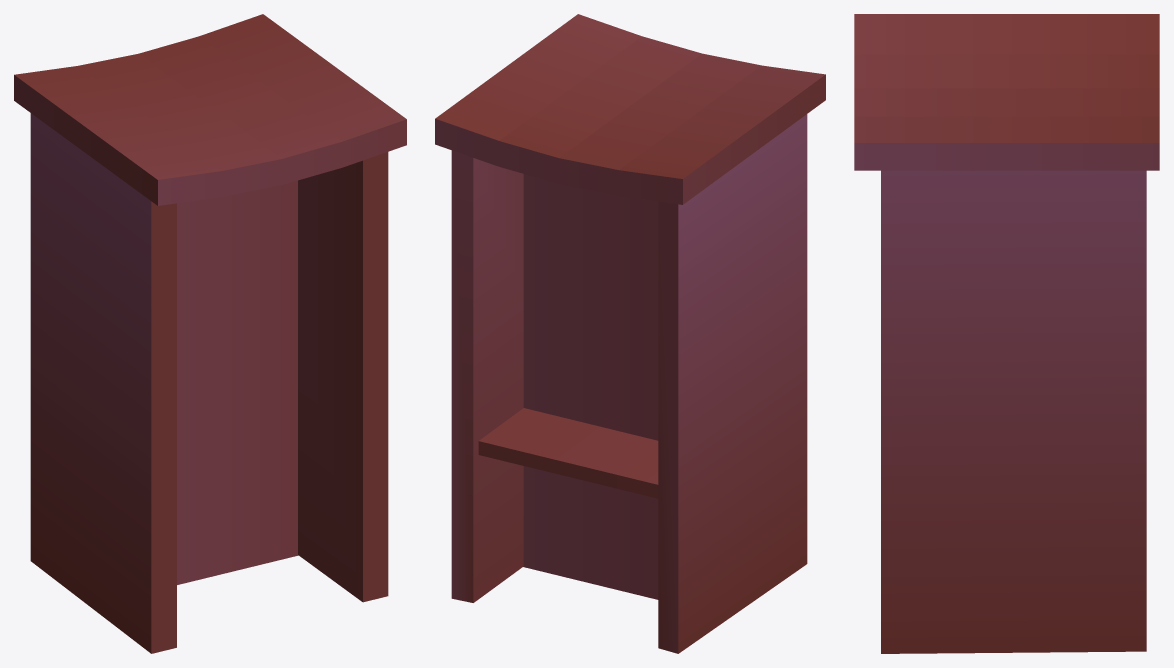
The model's file is B01_Chaise_bar_2.fbx.
The picture shows the model from 3 angles, left to right: view 1: azimuth 30°, elevation 25°; view 2: azimuth 150°, elevation 25°; view 3: azimuth 270°, elevation 25°; orthographic projection. The views are drawn at different scales.
Parts seen in each view (by area): view 1: B01_Chaise_bar_2; view 2: B01_Chaise_bar_2; view 3: B01_Chaise_bar_2.
Boxes of the visible parts, bbox=[...] form: B01_Chaise_bar_2: bbox=[14, 14, 406, 653]; B01_Chaise_bar_2: bbox=[435, 14, 825, 653]; B01_Chaise_bar_2: bbox=[854, 14, 1159, 653].
Bounding box in the file's own units: 37.59 × 70 × 37.59.
